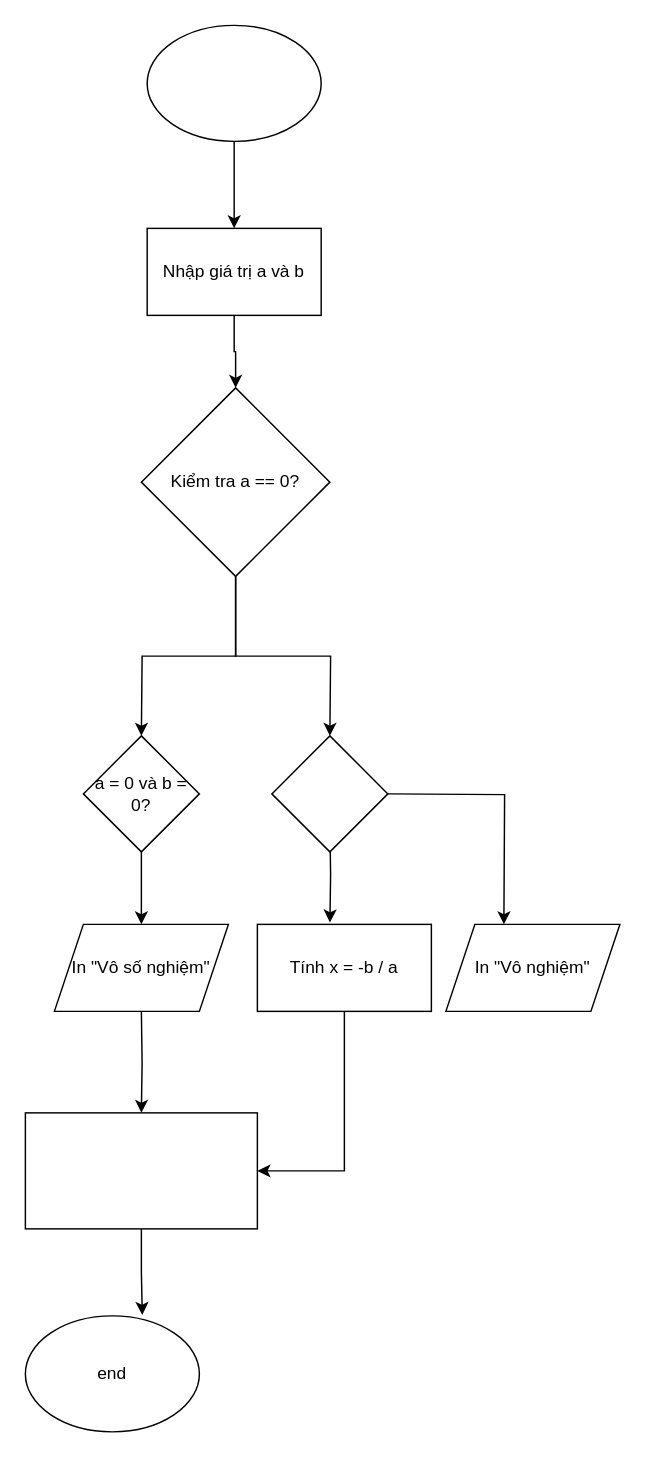
The diagram is 645 pixels wide and 1457 high, and some of its shapes have lost their labels. The centre of each missing label's shape, as x and y in pixels:
a ≠ 0?: point 329,793
Bắt đầu: point 233,82
In "Giá trị của x là: " + x: point 140,1170
